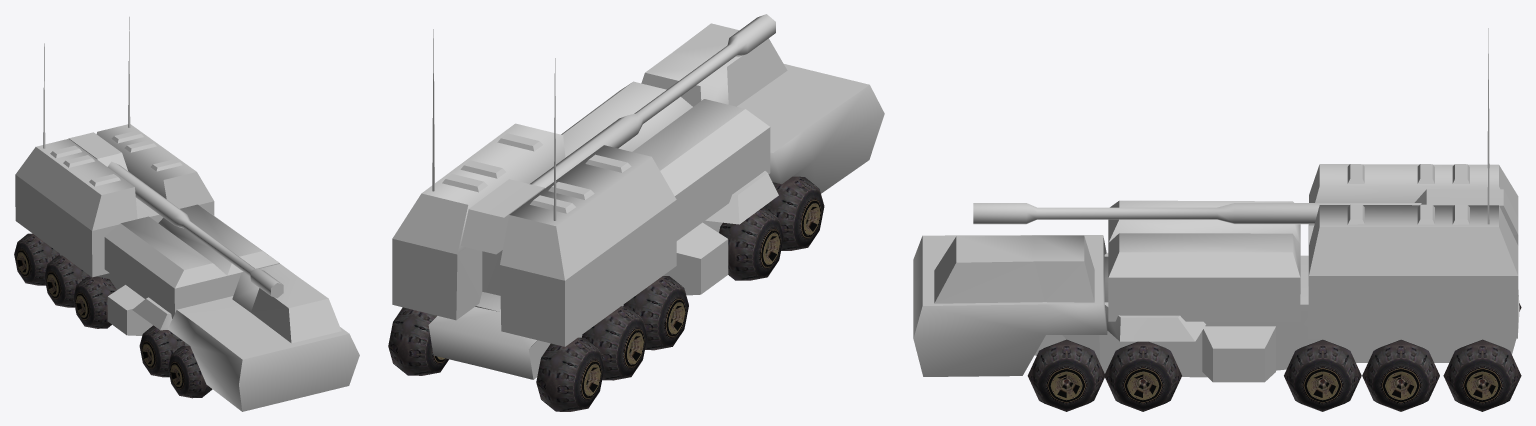
The model's file is VEH_WHEEL_002.max.fbx.
3 renders of one model, left to right at view 1: azimuth 30°, elevation 25°; view 2: azimuth 150°, elevation 25°; view 3: azimuth 270°, elevation 25°, orthographic. The views are drawn at different scales.
Visible parts, largest first — view 1: BODY, Object01, wheel_08, wheel_06, wheel_10, wheel_09, wheel_07; view 2: BODY, Object01, wheel_06, wheel_09, wheel_07, wheel_08, wheel_10, wheel_01; view 3: BODY, Object01, wheel_03, wheel_02, wheel_01, wheel_05, wheel_04.
Boxes of the visible parts, left/top/right/bottom form: BODY: left=15, top=17, right=359, bottom=411; Object01: left=108, top=161, right=283, bottom=298; wheel_08: left=73, top=276, right=116, bottom=328; wheel_06: left=14, top=233, right=59, bottom=285; wheel_10: left=168, top=346, right=212, bottom=398; wheel_09: left=139, top=325, right=185, bottom=377; wheel_07: left=44, top=255, right=89, bottom=307; BODY: left=392, top=23, right=884, bottom=379; Object01: left=530, top=14, right=775, bottom=188; wheel_06: left=536, top=337, right=604, bottom=411; wheel_09: left=719, top=206, right=783, bottom=280; wheel_07: left=582, top=306, right=647, bottom=380; wheel_08: left=623, top=276, right=688, bottom=350; wheel_10: left=764, top=176, right=824, bottom=250; wheel_01: left=388, top=307, right=448, bottom=375; BODY: left=913, top=28, right=1519, bottom=382; Object01: left=973, top=203, right=1421, bottom=224; wheel_03: left=1284, top=339, right=1361, bottom=411; wheel_02: left=1362, top=339, right=1439, bottom=411; wheel_01: left=1443, top=339, right=1521, bottom=411; wheel_05: left=1027, top=339, right=1104, bottom=411; wheel_04: left=1105, top=341, right=1181, bottom=411.
Bounding box in the file's own units: 8.51 × 14.86 × 24.5.
